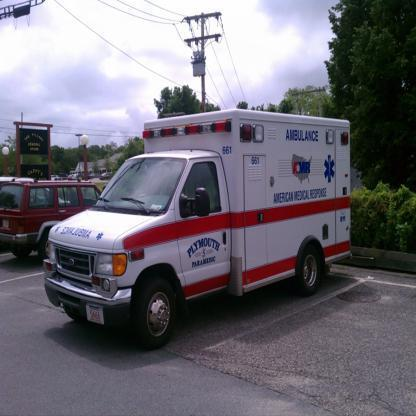Ambulance - v1 Ambulance last generate: (42, 108, 353, 344)
